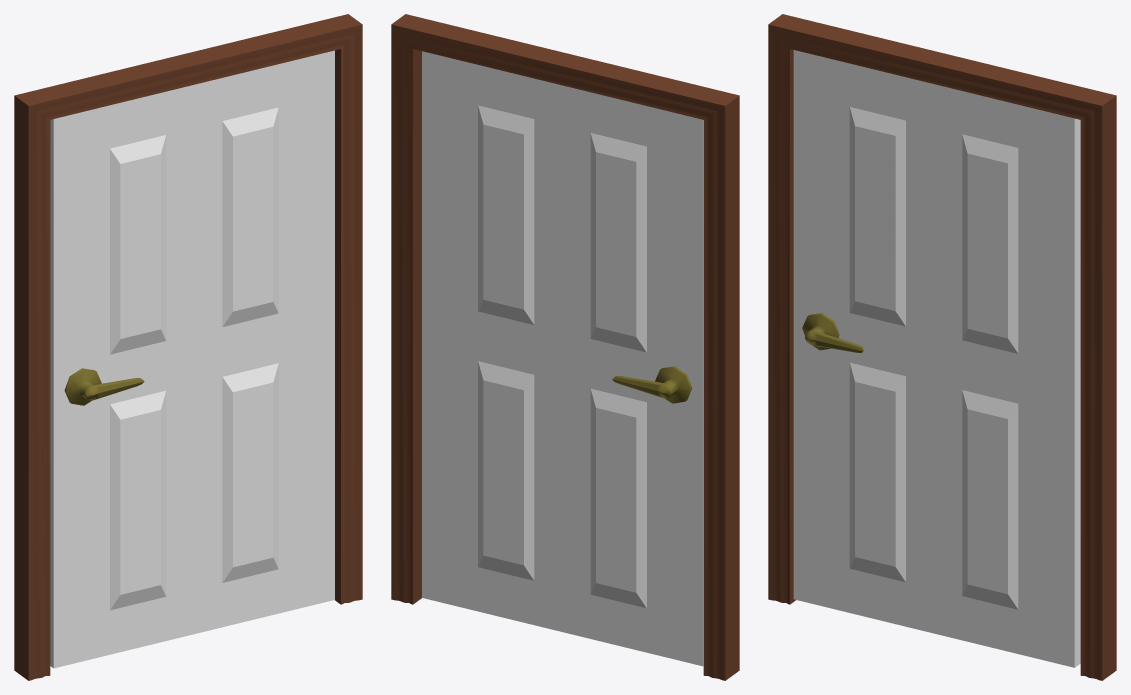
Rendered from door.fbx.
3 views of the same model, side by side, from view 1: azimuth 30°, elevation 25°; view 2: azimuth 150°, elevation 25°; view 3: azimuth 330°, elevation 25° (orthographic).
Visible parts, largest first — view 1: door_lineHAndle, doorTrim; view 2: door_lineHAndle, doorTrim; view 3: door_lineHAndle, doorTrim.
Part boxes in pixels (x1,y1,x2,y2): door_lineHAndle: [50, 50, 334, 668]; doorTrim: [14, 14, 362, 680]; door_lineHAndle: [422, 51, 703, 666]; doorTrim: [391, 14, 739, 680]; door_lineHAndle: [793, 50, 1080, 667]; doorTrim: [768, 14, 1116, 680].
Size of the model in its own units: 3.89 by 6.39 by 0.7091.
2 materials, 1 textured.
